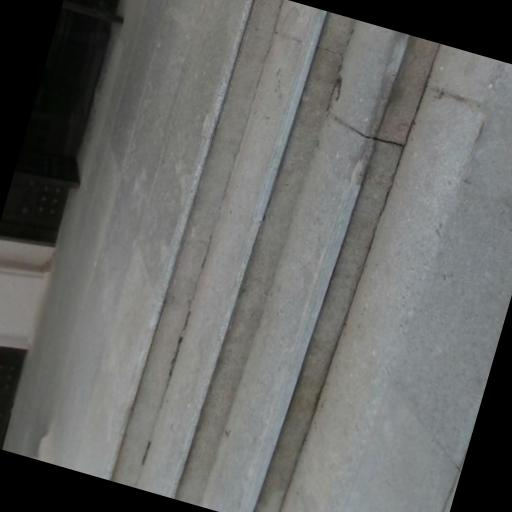stairs: (110, 0, 439, 511)
